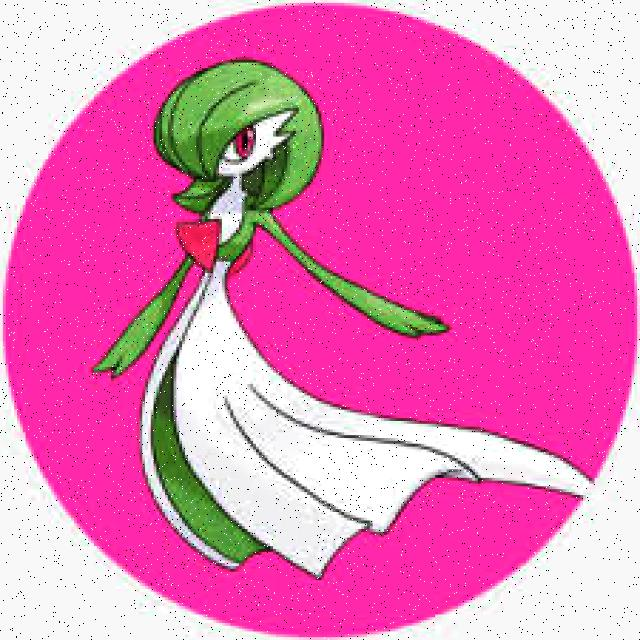gardevoir: (90, 56, 594, 574)
